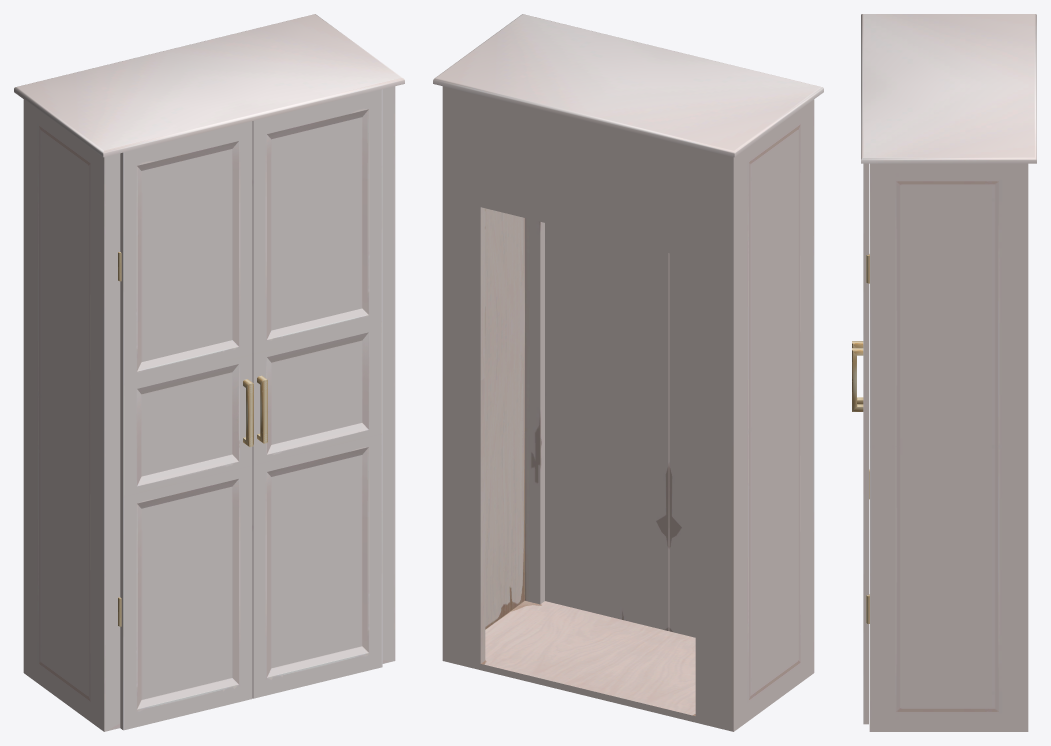
File: Bedroom Wardrobe.fbx
The picture shows the model from 3 angles, left to right: view 1: azimuth 30°, elevation 25°; view 2: azimuth 150°, elevation 25°; view 3: azimuth 270°, elevation 25°; orthographic projection.
Visible parts, largest first — view 1: Bedroom Wardrobe, Bedroom WardrobeDoorL, Bedroom WardrobeDoorR; view 2: Bedroom Wardrobe, Bedroom WardrobeDoorR, Bedroom WardrobeDoorL; view 3: Bedroom Wardrobe, Bedroom WardrobeDoorR.
Part boxes in pixels (<box>): Bedroom Wardrobe: <box>14,14,404,731</box>; Bedroom WardrobeDoorL: <box>120,121,253,730</box>; Bedroom WardrobeDoorR: <box>252,89,382,698</box>; Bedroom Wardrobe: <box>433,14,823,731</box>; Bedroom WardrobeDoorR: <box>545,223,669,630</box>; Bedroom WardrobeDoorL: <box>669,253,695,637</box>; Bedroom Wardrobe: <box>861,14,1036,731</box>; Bedroom WardrobeDoorR: <box>852,163,868,724</box>.
Bounding box in the file's own units: 1.54 × 2.86 × 0.8307.
Materials: 1 (1 with a texture image).
